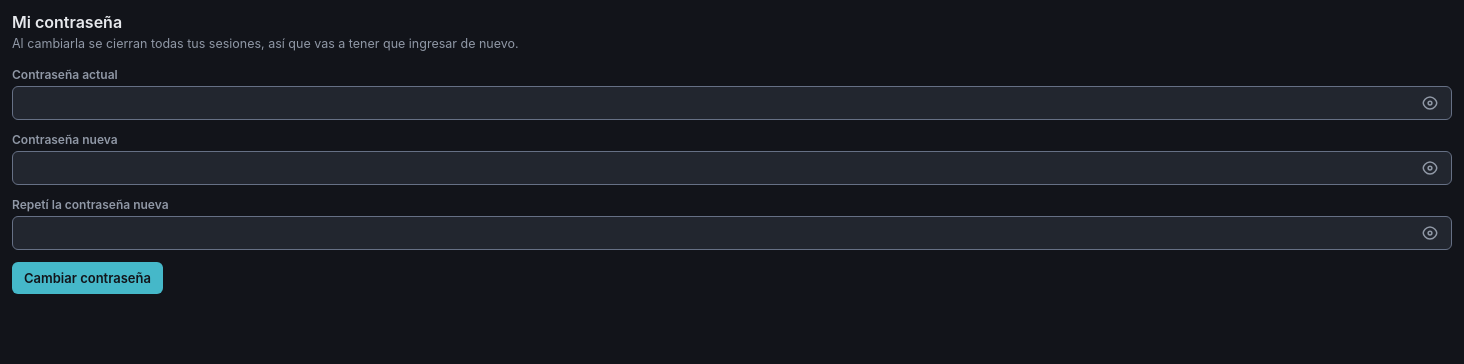
it: PasswordPanel › avisa y no envía cuando la confirmación no coincide
Type "contrasena-de-prueba" into the password field labelled "Contraseña actual".
click(732, 103); type("contrasena-de-prueba")  # box x1=12 y1=86 x2=1452 y2=120
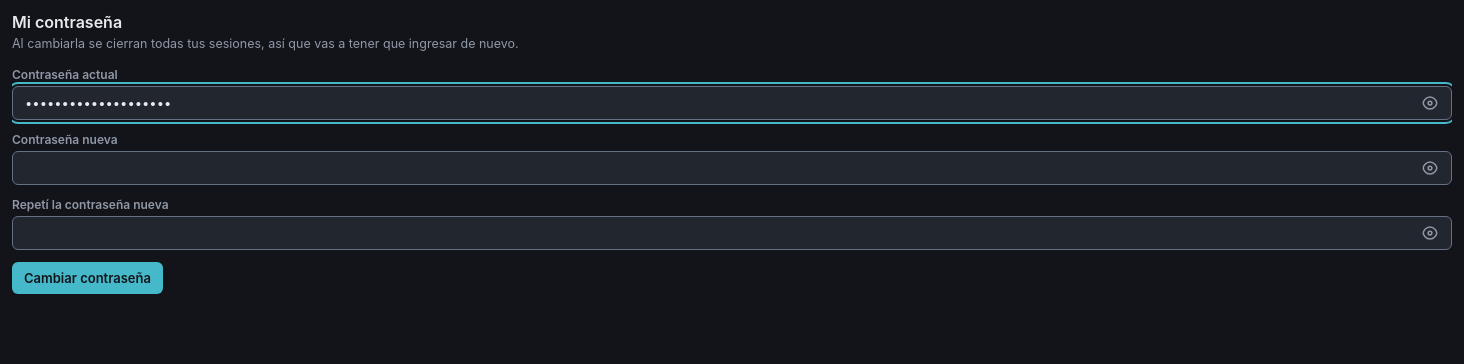
Type "contrasena-nueva" into the password field labelled "Contraseña nueva".
click(732, 168); type("contrasena-nueva")  # box x1=12 y1=151 x2=1452 y2=185
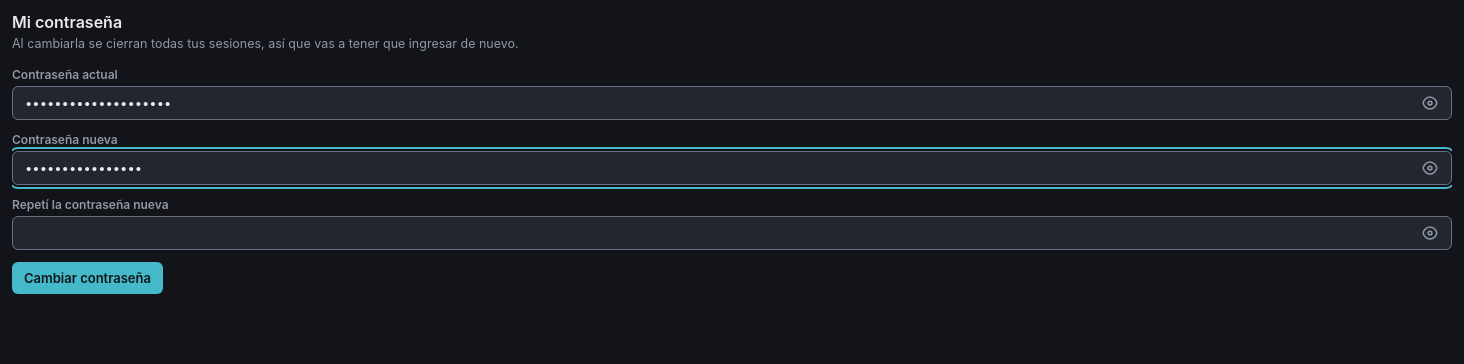
Type "otra-contrasena" into the password field labelled "Repetí la contraseña nueva".
click(732, 233); type("otra-contrasena")  # box x1=12 y1=216 x2=1452 y2=250
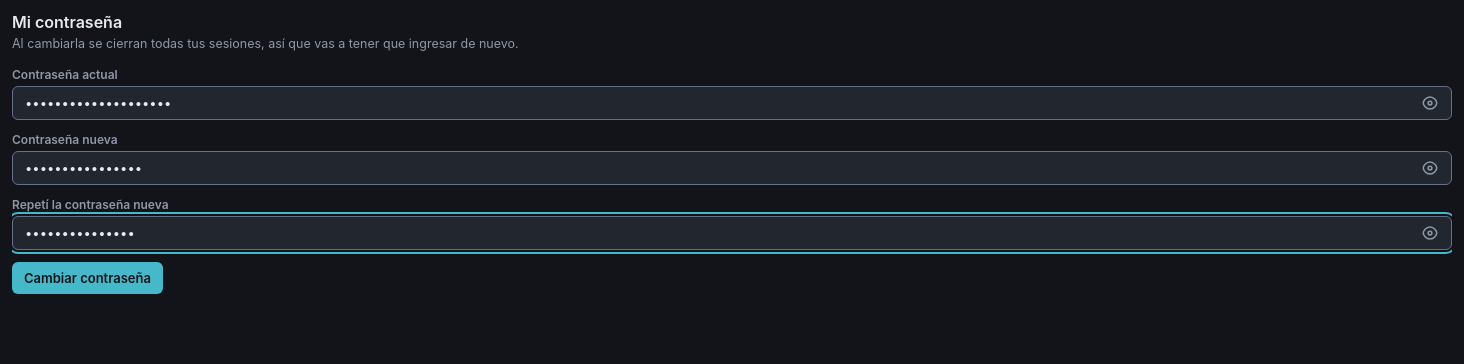
Click the button "Cambiar contraseña".
click(88, 278)  # box x1=12 y1=262 x2=163 y2=294
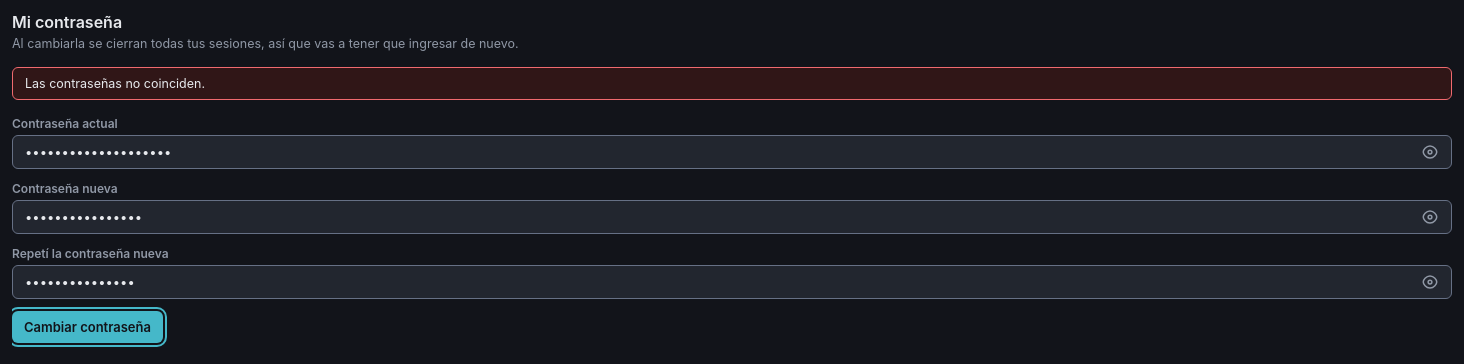
Expected: the message reads "Las contraseñas no coinciden.", x1=25 y1=76 x2=205 y2=91
